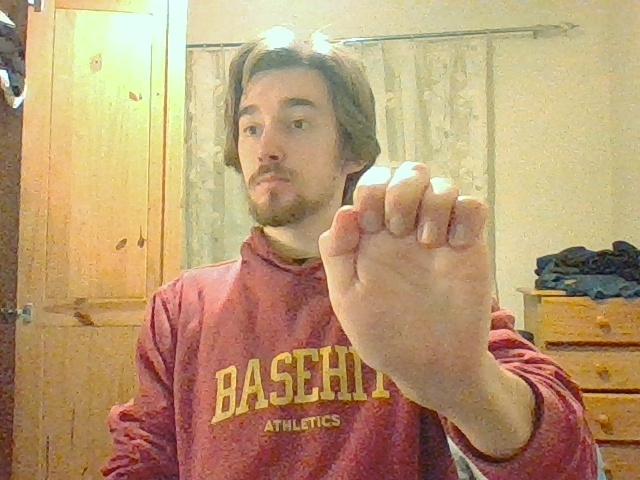your: (318, 160, 492, 350)
